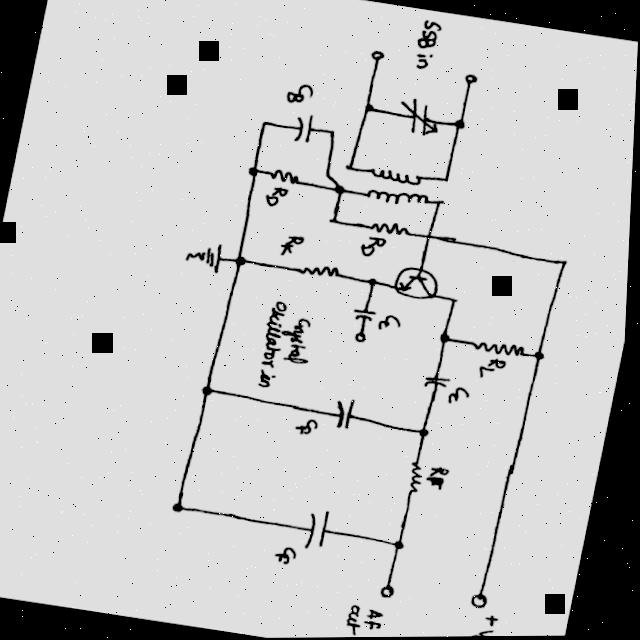capacitor: (398, 97, 440, 138), (308, 509, 339, 551), (331, 396, 362, 433), (293, 114, 317, 144), (349, 306, 382, 325), (425, 373, 455, 392)
ground: (186, 240, 230, 275)
junction: (436, 329, 460, 351), (329, 182, 352, 201), (448, 117, 469, 135), (232, 253, 253, 271), (199, 381, 219, 399), (532, 349, 553, 366), (171, 499, 192, 516), (418, 424, 437, 442), (358, 102, 379, 117), (245, 163, 263, 180), (323, 126, 341, 141), (394, 539, 411, 553), (556, 258, 573, 272), (257, 119, 274, 133), (366, 277, 383, 289), (435, 197, 446, 208), (441, 175, 453, 185), (344, 164, 356, 173), (329, 217, 340, 226), (322, 171, 334, 179), (452, 296, 462, 305), (424, 232, 434, 241)
resistor: (365, 218, 420, 242), (476, 338, 531, 360), (300, 262, 347, 282), (409, 459, 432, 497), (269, 168, 304, 186)
terminal: (472, 590, 496, 610), (381, 581, 405, 601), (460, 68, 482, 89), (366, 47, 387, 66), (354, 329, 373, 345)
text: (258, 300, 321, 394), (413, 18, 445, 73), (348, 604, 391, 638), (360, 235, 391, 260), (283, 83, 318, 105), (428, 465, 456, 492), (480, 357, 511, 380), (280, 234, 307, 259), (265, 186, 291, 209), (276, 546, 304, 567), (297, 417, 323, 438), (379, 314, 406, 333), (449, 386, 474, 405), (473, 627, 502, 637)
transformer: (362, 166, 437, 211)
transistor: (394, 264, 447, 304)
